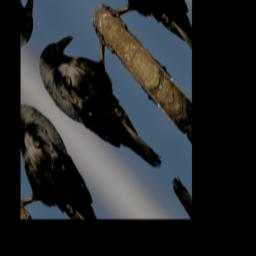Crow: (30, 0, 186, 207)
